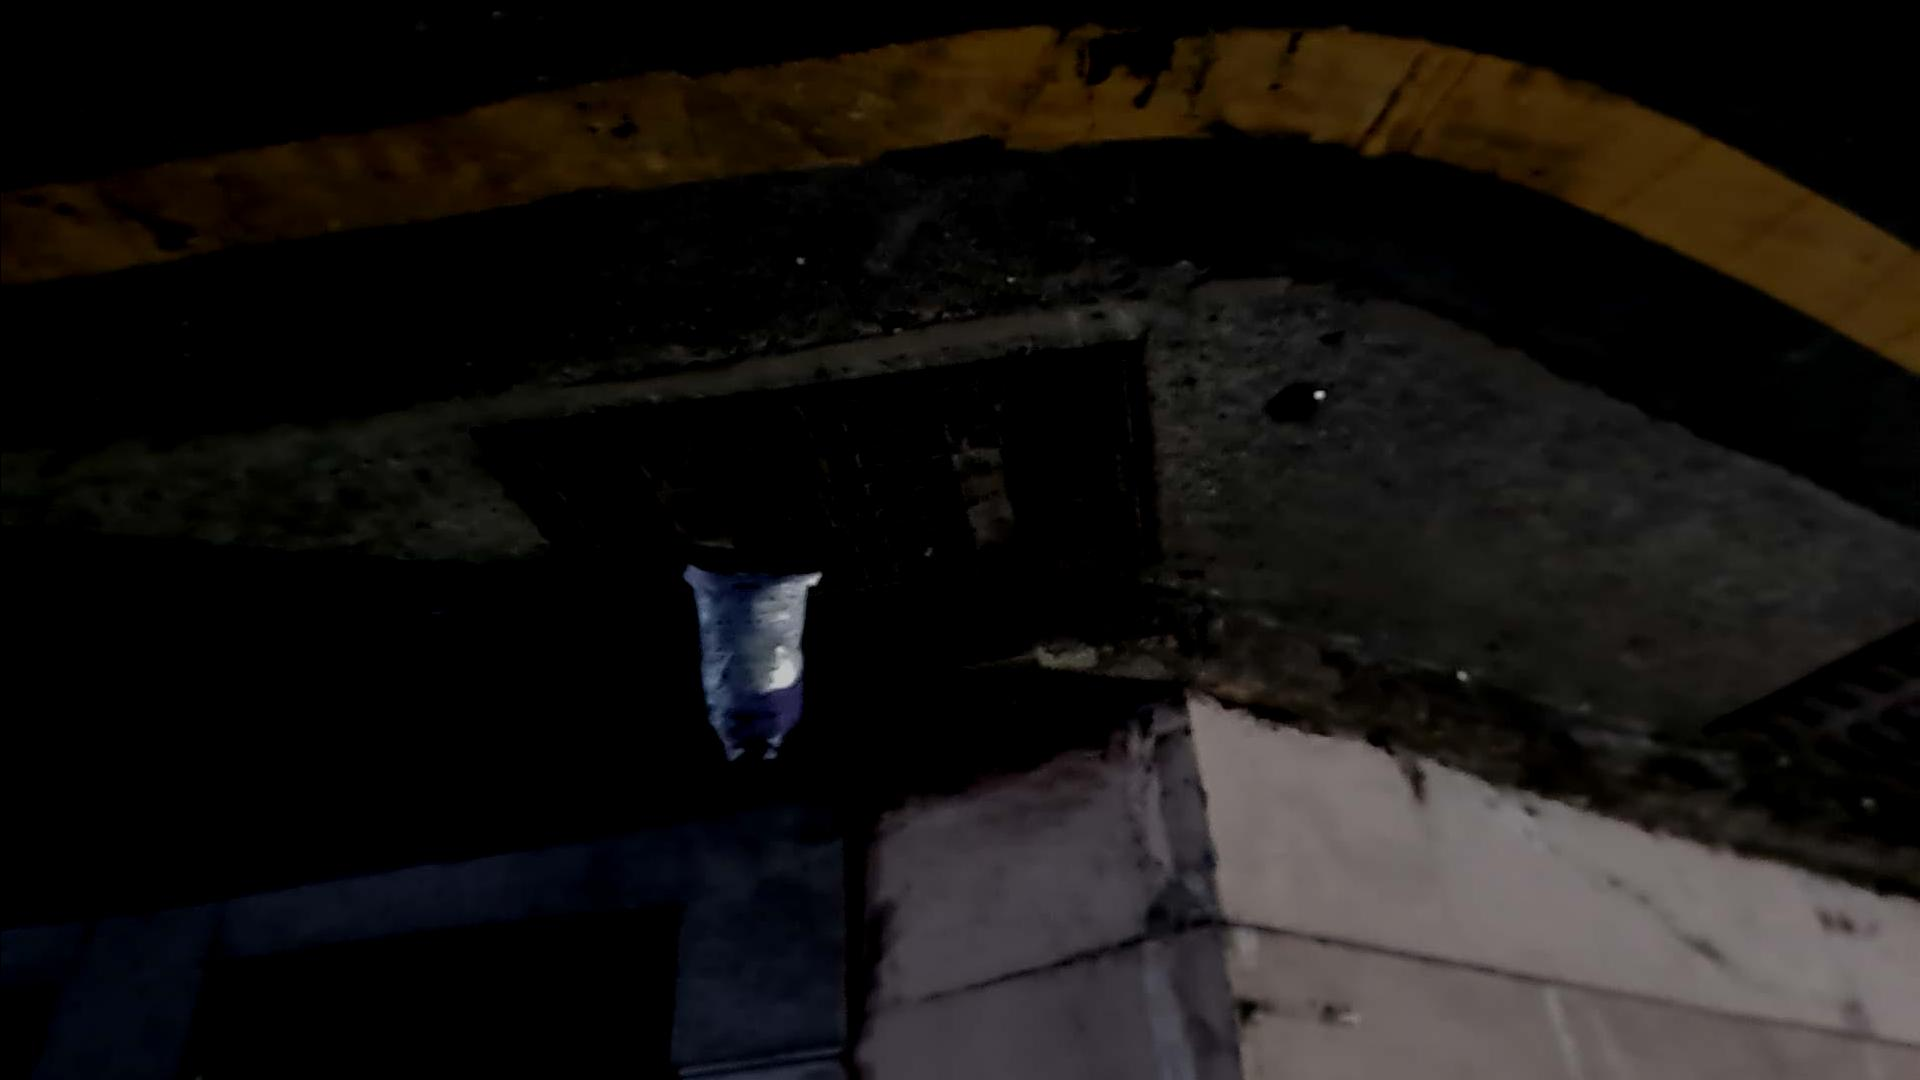white_bag: (670, 550, 831, 773)
